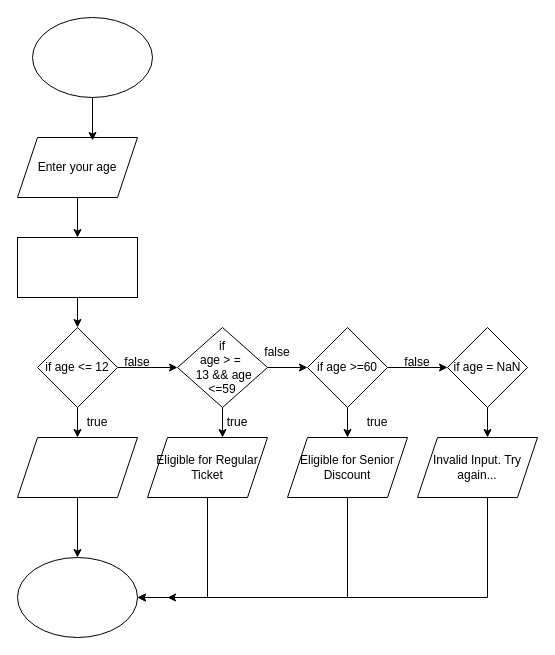
Some shapes in this 555 by 655 pixel diagram are drawn without their labels. Each missing label, with the centre of its shape:
"Eligible for Child Discount" belongs at (x=77, y=467).
"End" belongs at (x=77, y=597).
"Save the input in the variable age" belongs at (x=77, y=267).
"Start" belongs at (x=92, y=57).
